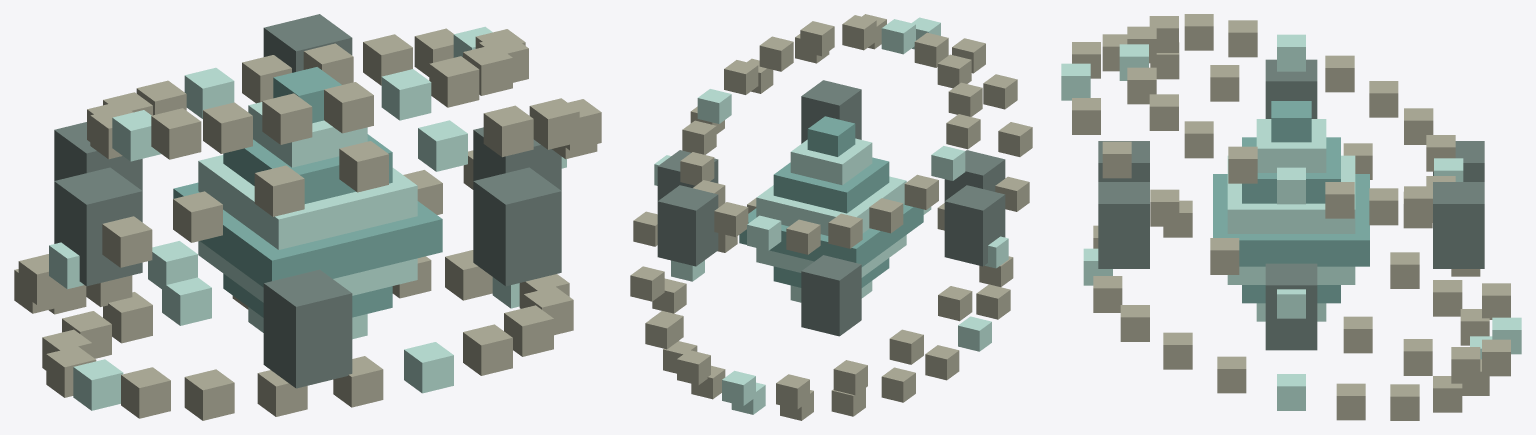
File: returning-core.glb
3 renders of one model, left to right at view 1: azimuth 30°, elevation 25°; view 2: azimuth 150°, elevation 25°; view 3: azimuth 270°, elevation 25°, orthographic. The views are drawn at different scales.
Parts seen in each view (by area): view 1: RingLocks, CrystalHeart, UpperRing, LowerRing, EquatorRing; view 2: UpperRing, RingLocks, CrystalHeart, EquatorRing, LowerRing; view 3: CrystalHeart, UpperRing, EquatorRing, RingLocks, LowerRing.
Part boxes in pixels (x1,y1,x2,y2): RingLocks: (54, 14, 561, 388); CrystalHeart: (173, 67, 442, 339); UpperRing: (87, 26, 528, 161); LowerRing: (42, 250, 573, 420); EquatorRing: (14, 98, 601, 314); UpperRing: (680, 15, 982, 254); RingLocks: (657, 80, 1005, 336); CrystalHeart: (739, 116, 923, 302); EquatorRing: (630, 14, 1032, 409); LowerRing: (651, 198, 1013, 420); CrystalHeart: (1213, 101, 1369, 321); UpperRing: (1119, 14, 1463, 225); EquatorRing: (1061, 34, 1521, 383); RingLocks: (1098, 59, 1484, 350); LowerRing: (1083, 200, 1492, 420).
Size of the model in its own units: 10.25 by 7.77 by 10.25.
